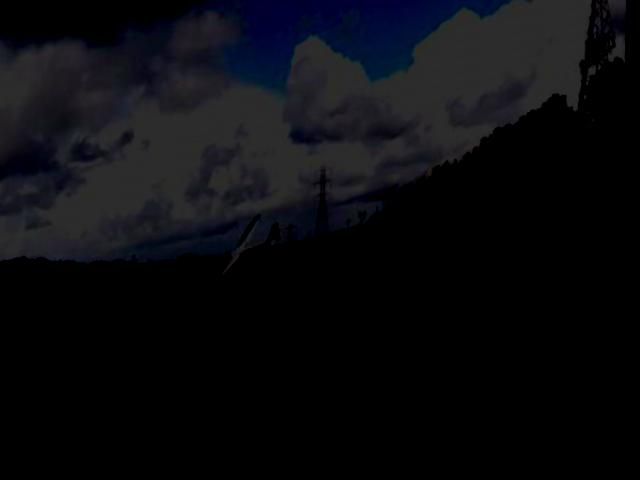iha: (213, 218, 283, 284)
